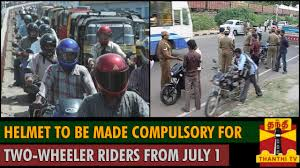helmet: (93, 52, 131, 99), (54, 37, 80, 73), (96, 25, 114, 48)
